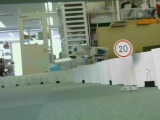speed_20: (112, 38, 134, 60)
